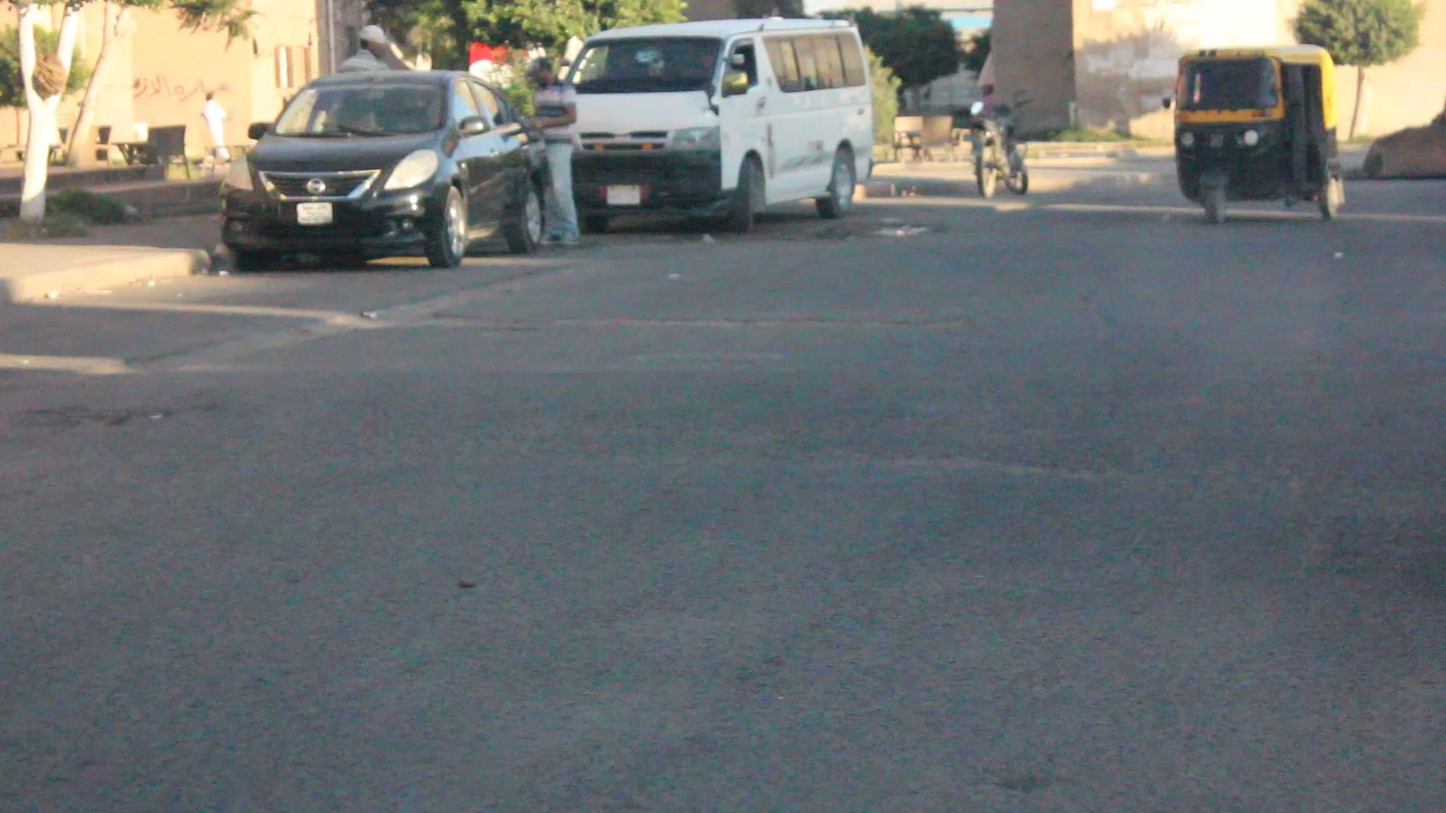Bump: (153, 455, 1446, 612)
